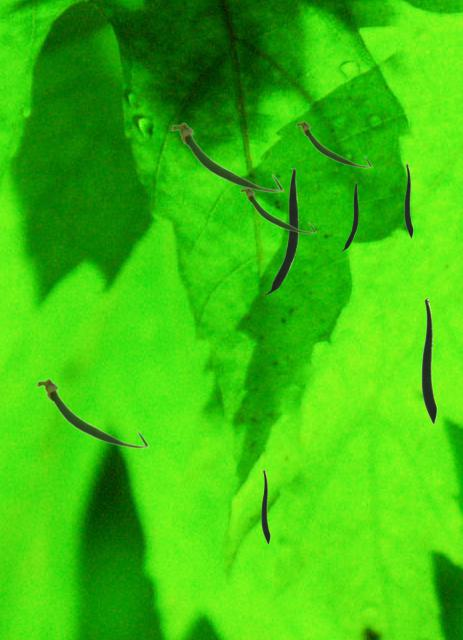french_bean: (35, 377, 148, 448), (170, 121, 283, 192), (263, 168, 297, 294), (295, 120, 371, 167), (239, 188, 315, 233), (421, 297, 436, 423), (341, 182, 357, 250), (404, 163, 412, 237), (261, 469, 269, 543)
